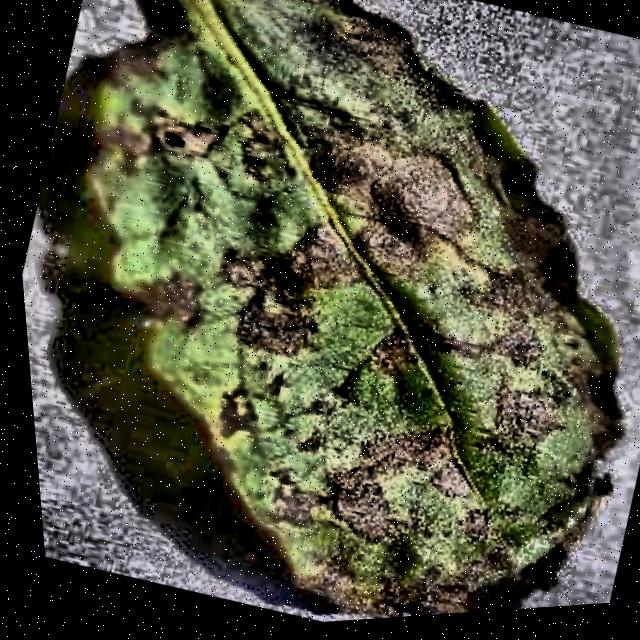Potato_leaf_early_blight: (93, 0, 617, 617)
